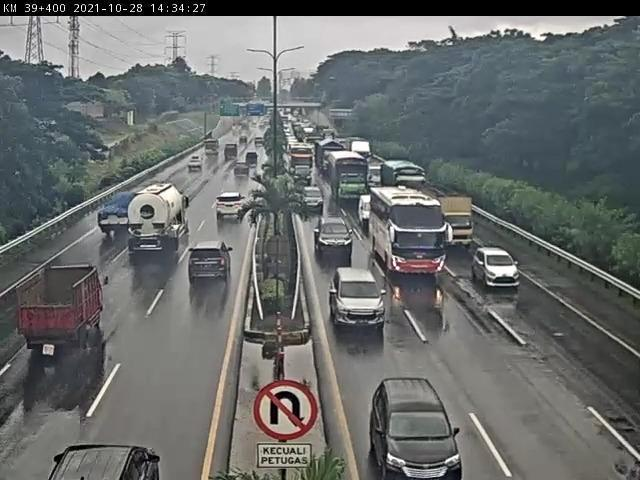bus: (371, 190, 449, 277)
car: (372, 377, 459, 477), (330, 266, 388, 330), (471, 247, 524, 292), (314, 213, 357, 259), (190, 240, 234, 283), (214, 191, 248, 223), (301, 185, 327, 211), (359, 193, 376, 221), (231, 160, 252, 180), (189, 156, 206, 175)
truck: (15, 266, 105, 350), (127, 185, 193, 258), (100, 189, 146, 238), (328, 151, 370, 204), (441, 192, 477, 248), (380, 157, 427, 187)
